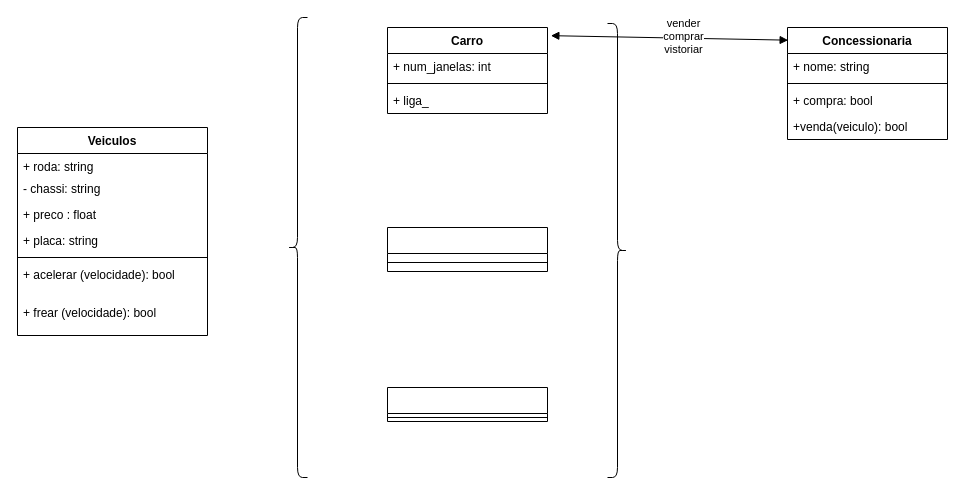
Image size: 965x496. Some labels were removed from this diagram. The shapes that lost their labels are listed below. From the top down, each one's centre as x and y in pixels, then its label:
the point at 467,249: motocicleta
the point at 467,404: Triciclo
